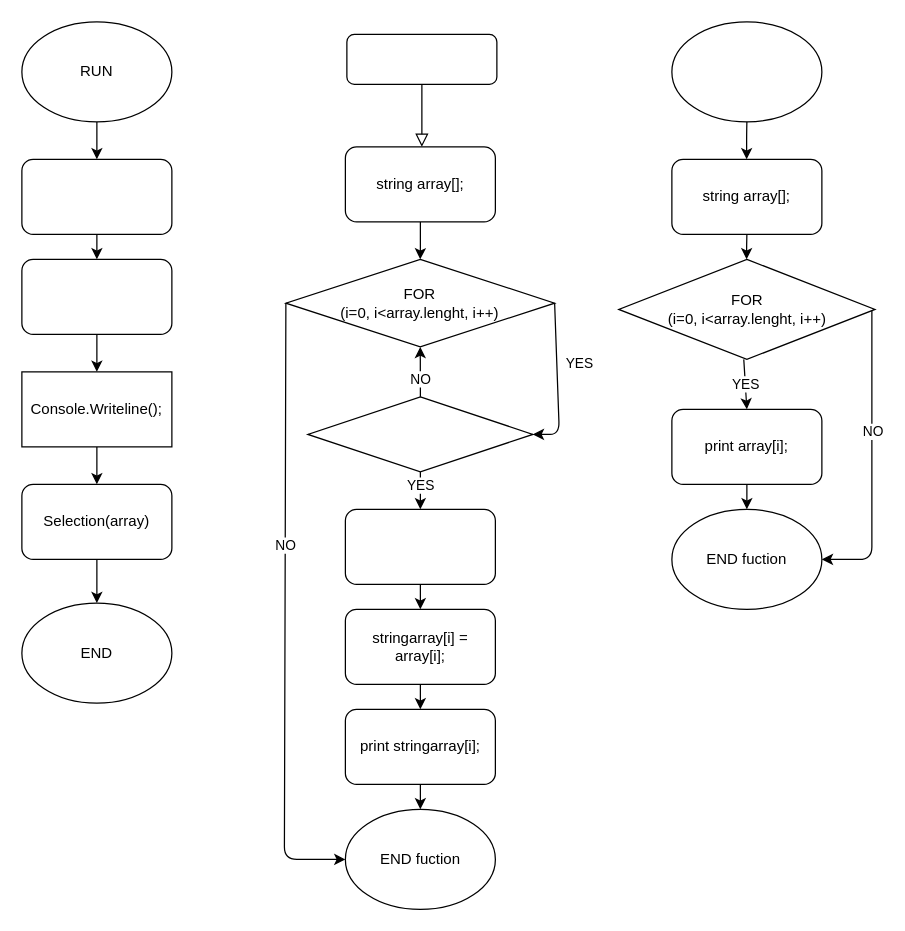
Some shapes in this 905 by 931 pixel diagram are drawn without their labels. The shapes that lost their labels are listed below. From the top down, each one's centre as x and y in pixels, then its label:
pixel 421 58: function "Selection"
pixel 746 71: fuction "PrintArray"
pixel 96 196: string[] array = { "qwerty", "1234", ... }
pixel 96 296: PrintArray(array);
pixel 420 434: if (array [i].lenght<=3
pixel 419 546: string new array "stringarray"
